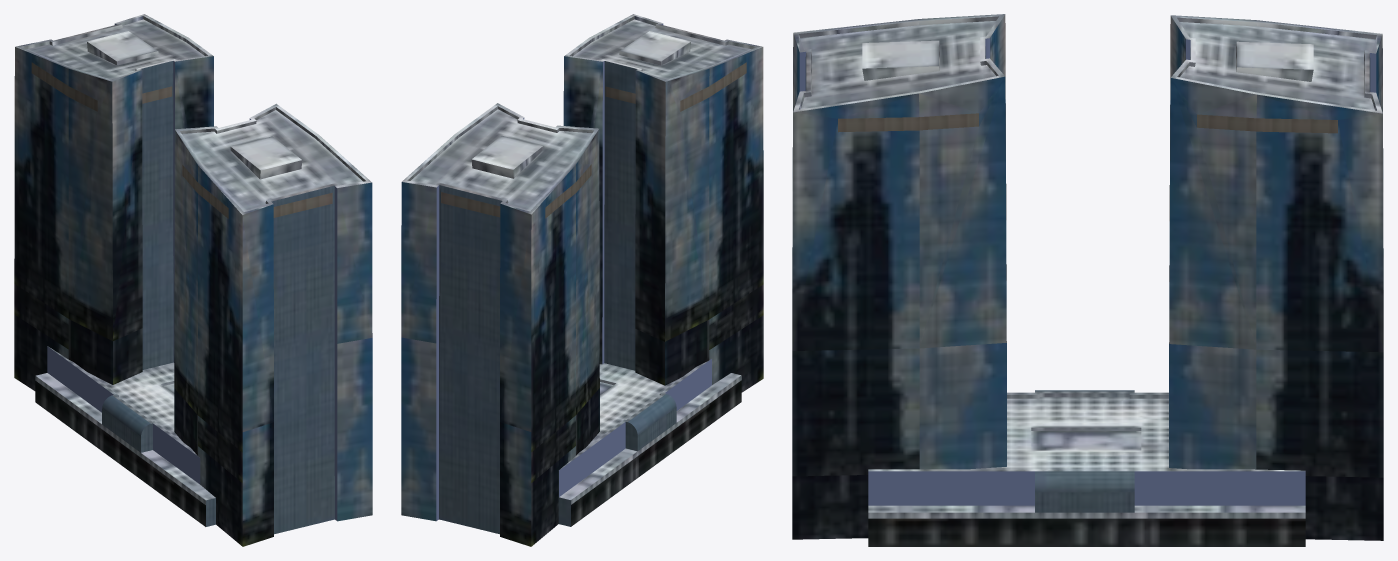
File: kerry_construction_plaza_2_3dbc324e.glb
3 renders of one model, left to right at view 1: azimuth 30°, elevation 25°; view 2: azimuth 150°, elevation 25°; view 3: azimuth 270°, elevation 25°, orthographic. The views are drawn at different scales.
Visible parts, largest first — view 1: kerry_construction_plaza_2_3dbc324e; view 2: kerry_construction_plaza_2_3dbc324e; view 3: kerry_construction_plaza_2_3dbc324e.
Part boxes in pixels (left/top/right/bottom): kerry_construction_plaza_2_3dbc324e: left=14, top=14, right=372, bottom=546; kerry_construction_plaza_2_3dbc324e: left=401, top=14, right=763, bottom=546; kerry_construction_plaza_2_3dbc324e: left=792, top=14, right=1383, bottom=546.
Bounding box in the file's own units: 44.86 × 102 × 120.
Materials: 1 (1 with a texture image).
